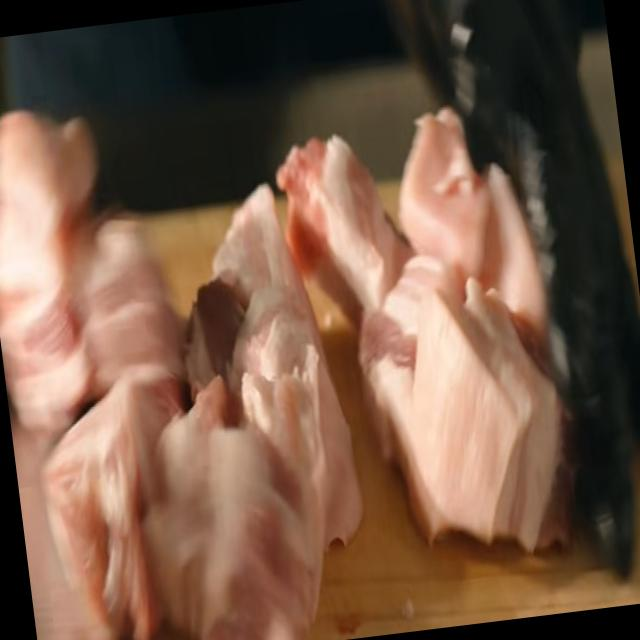pork: (164, 182, 336, 502), (357, 288, 560, 532), (278, 126, 400, 310)
